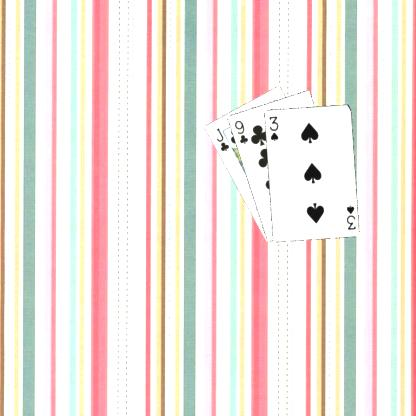3S: (266, 113, 280, 142), (344, 202, 356, 231)
9C: (232, 117, 250, 145)
JC: (213, 125, 230, 153)
